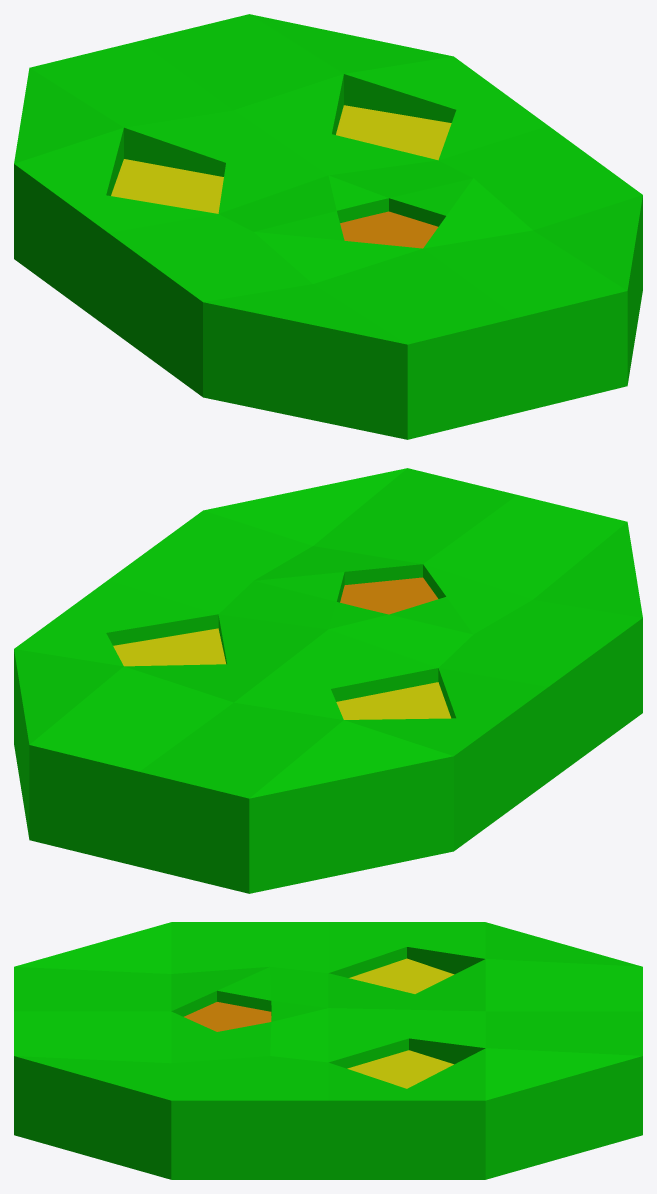
The picture shows the model from 3 angles, top to bottom: view 1: azimuth 30°, elevation 25°; view 2: azimuth 150°, elevation 25°; view 3: azimuth 270°, elevation 25°; orthographic projection. The views are drawn at different scales.
Parts seen in each view (by area): view 1: Cube; view 2: Cube; view 3: Cube.
Part boxes in pixels (bbox=[...]): Cube: bbox=[14, 14, 642, 439]; Cube: bbox=[14, 468, 642, 893]; Cube: bbox=[14, 922, 642, 1179].
Bounding box in the file's own units: 257 × 58.49 × 383.
